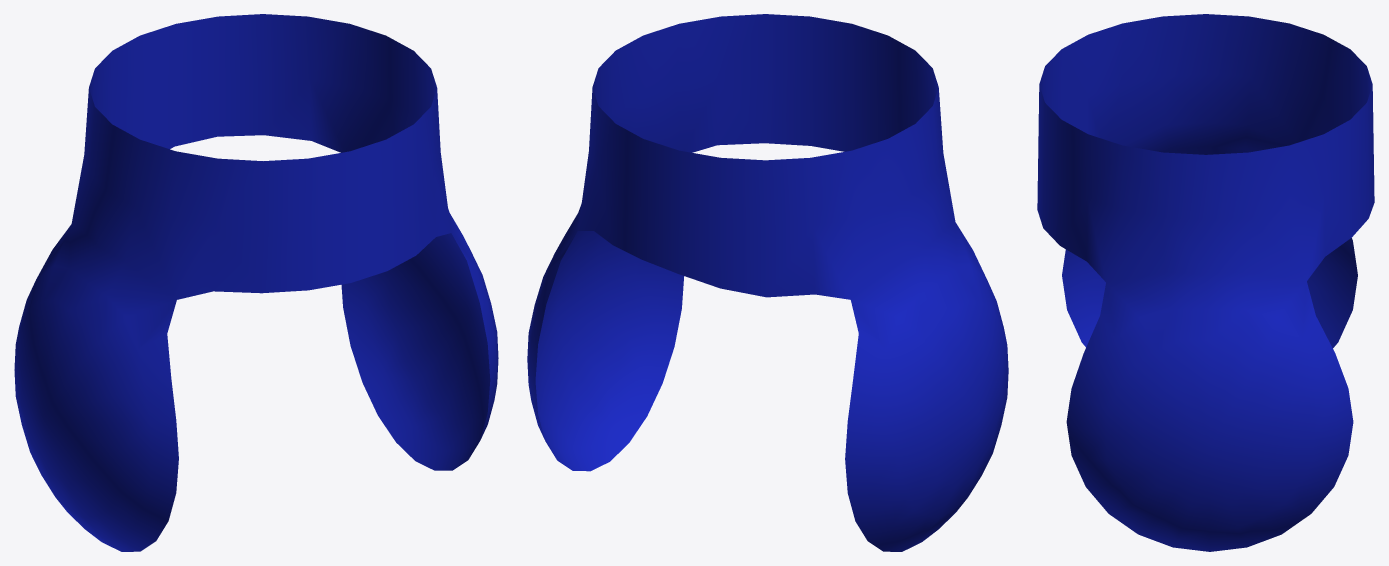
File: r_shoulder_pitch_link.obj
3 renders of one model, left to right at view 1: azimuth 30°, elevation 25°; view 2: azimuth 150°, elevation 25°; view 3: azimuth 270°, elevation 25°, orthographic. The views are drawn at different scales.
Bounding box in the file's own units: 0.0447 × 0.0419 × 0.032.
